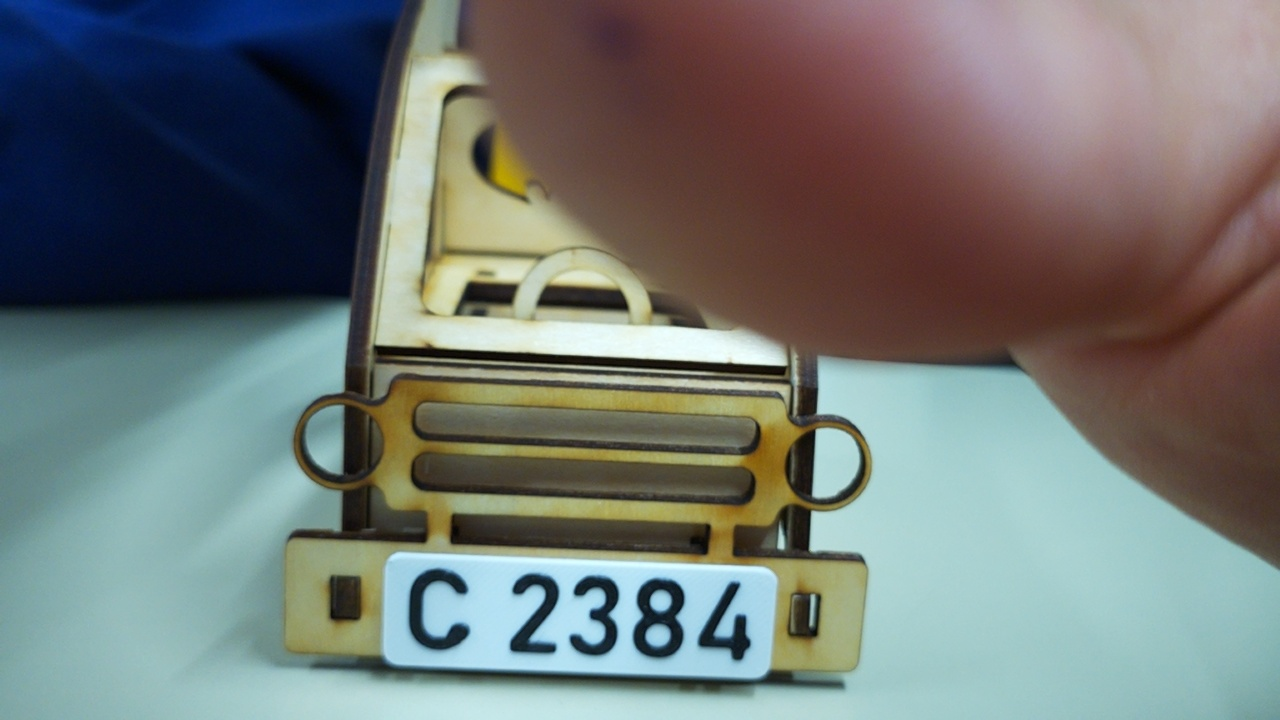license_plate: (379, 549, 780, 681)
